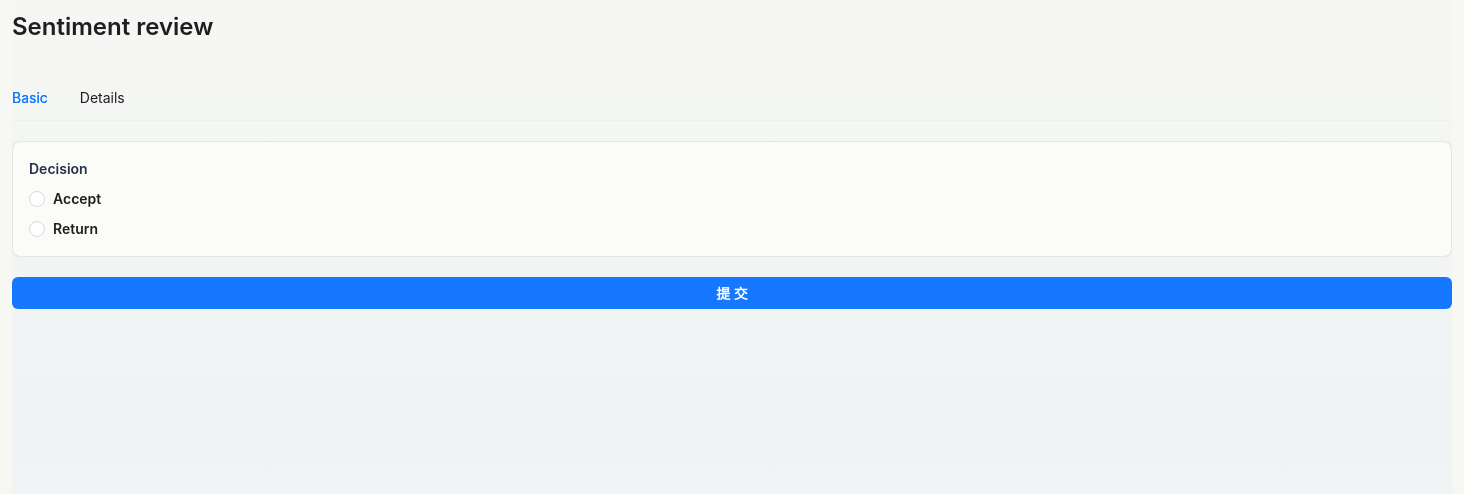
Test: SchemaRenderer › renders tab groups and summarizes validation errors outside the active tab
The width and height of the screenshot is (1464, 494).
Expected: the tab "Basic" is shown, left=12, top=87, right=48, bottom=109
Expected: the tab "Details" is shown, left=80, top=87, right=125, bottom=109
Click the button "提 交": [732, 293] box left=12, top=277, right=1452, bottom=309
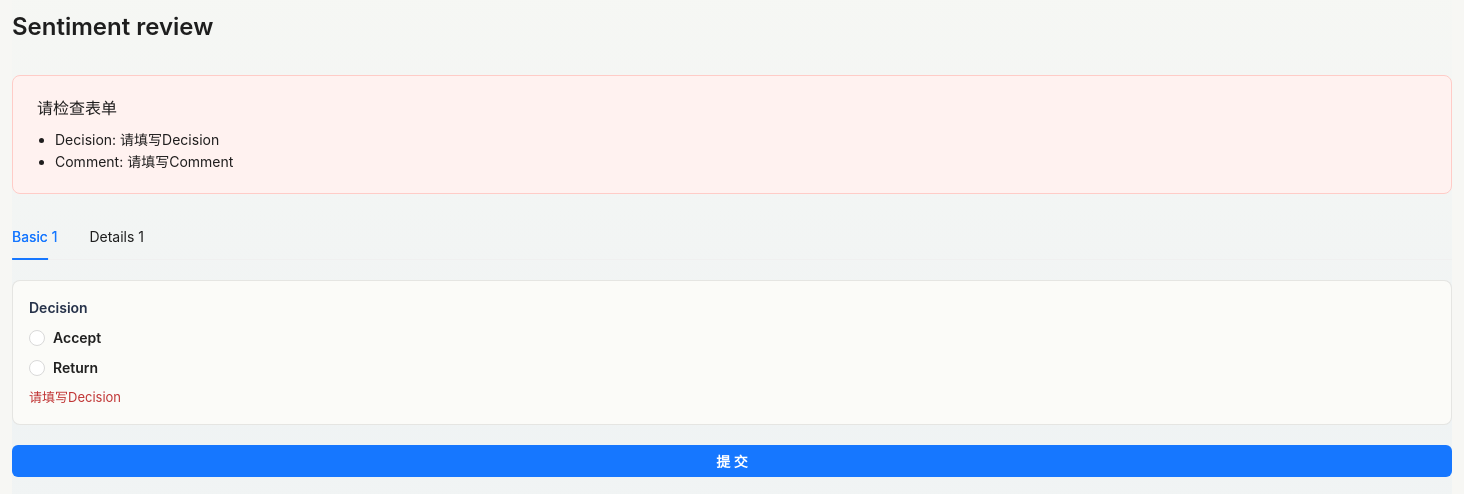
Now the message shows "Comment: 请填写Comment", box left=12, top=75, right=1452, bottom=194
Now the tab "Details 1" is shown, box left=89, top=226, right=144, bottom=248
